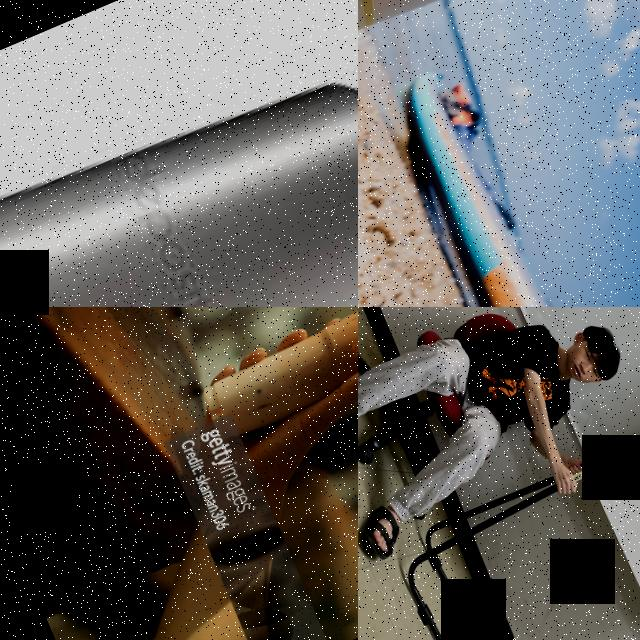can: (0, 21, 358, 307), (358, 0, 573, 146)
cup: (190, 307, 358, 459)
